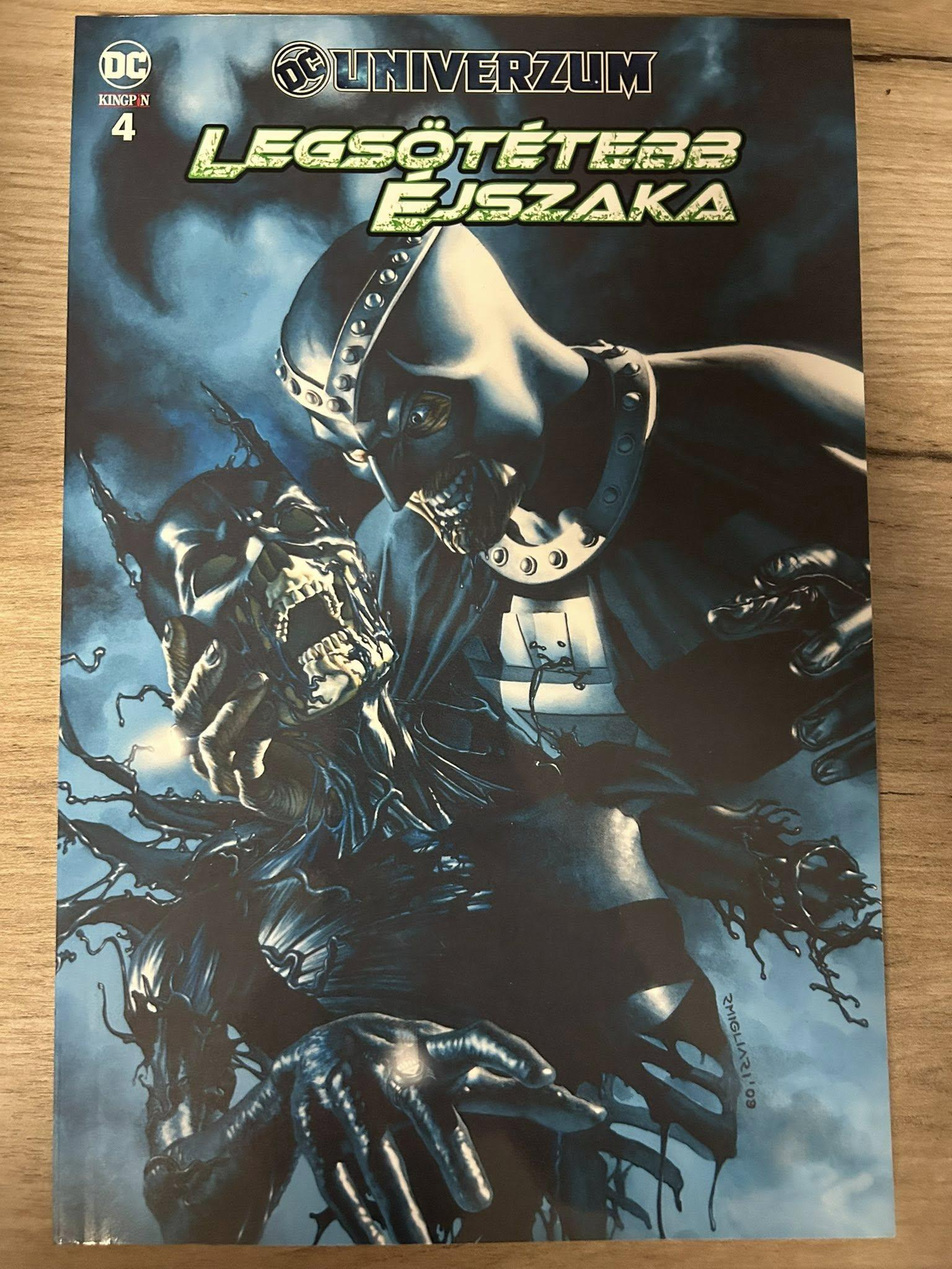comic: (45, 10, 892, 1246)
